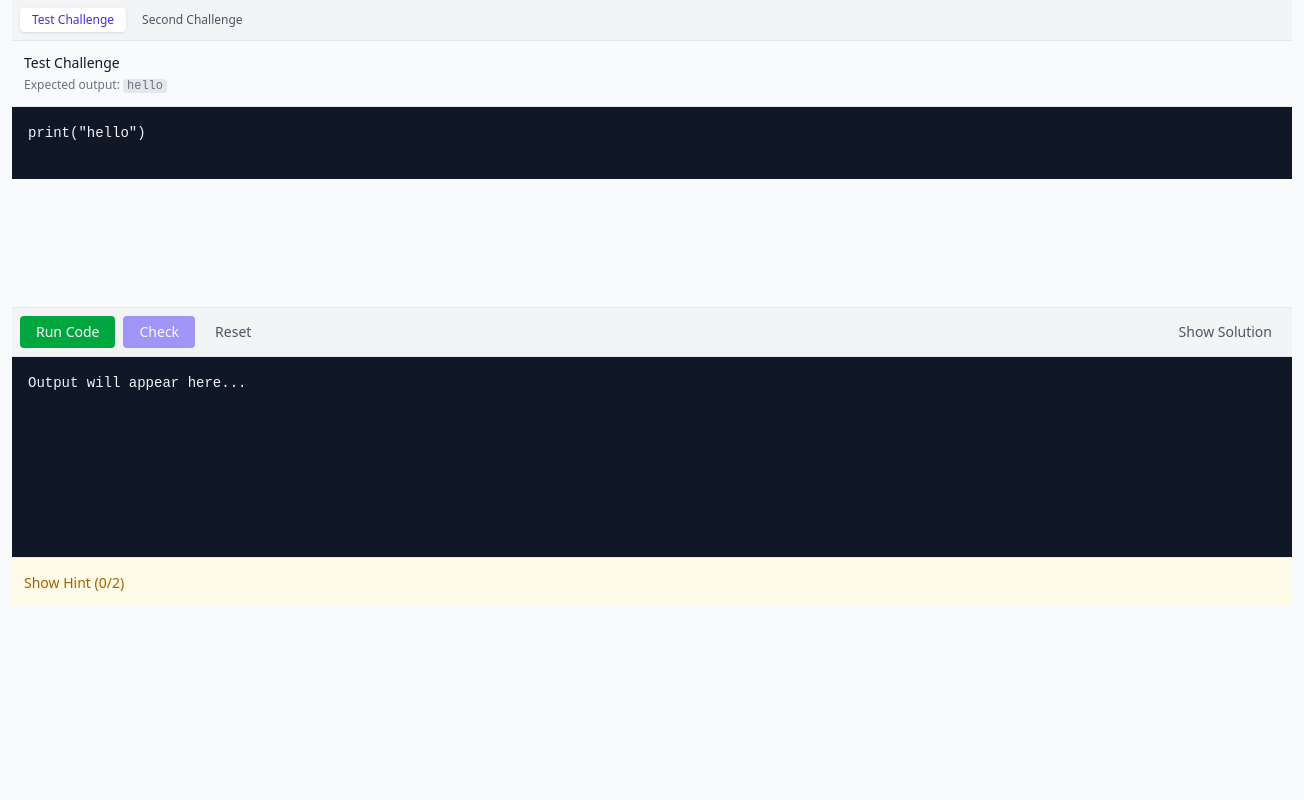
Test case: CodeSandbox › resets code to starter code
Replace the text in the text box named "Code editor" with "modified code" at (652, 143), box [12,107,1292,179]
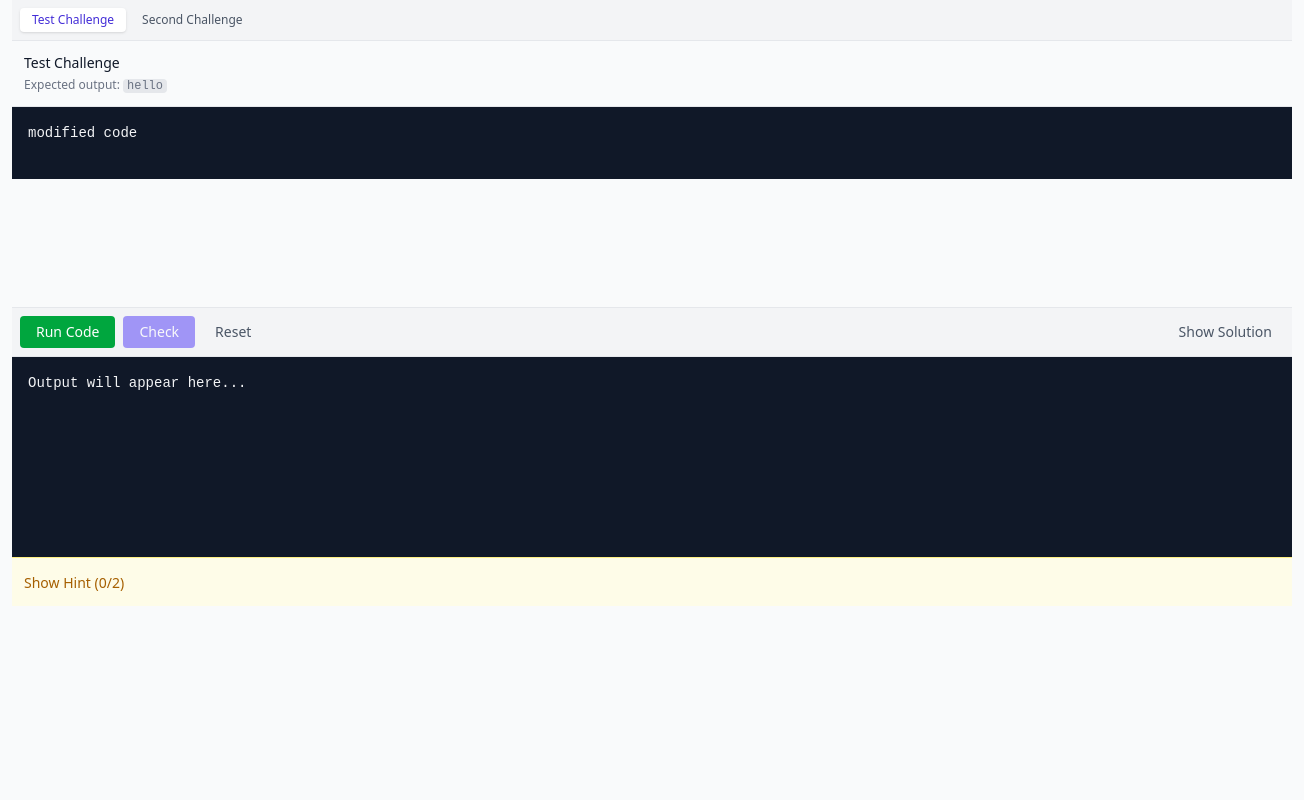
Click the button "Reset" at (233, 332), box [203,316,263,348]
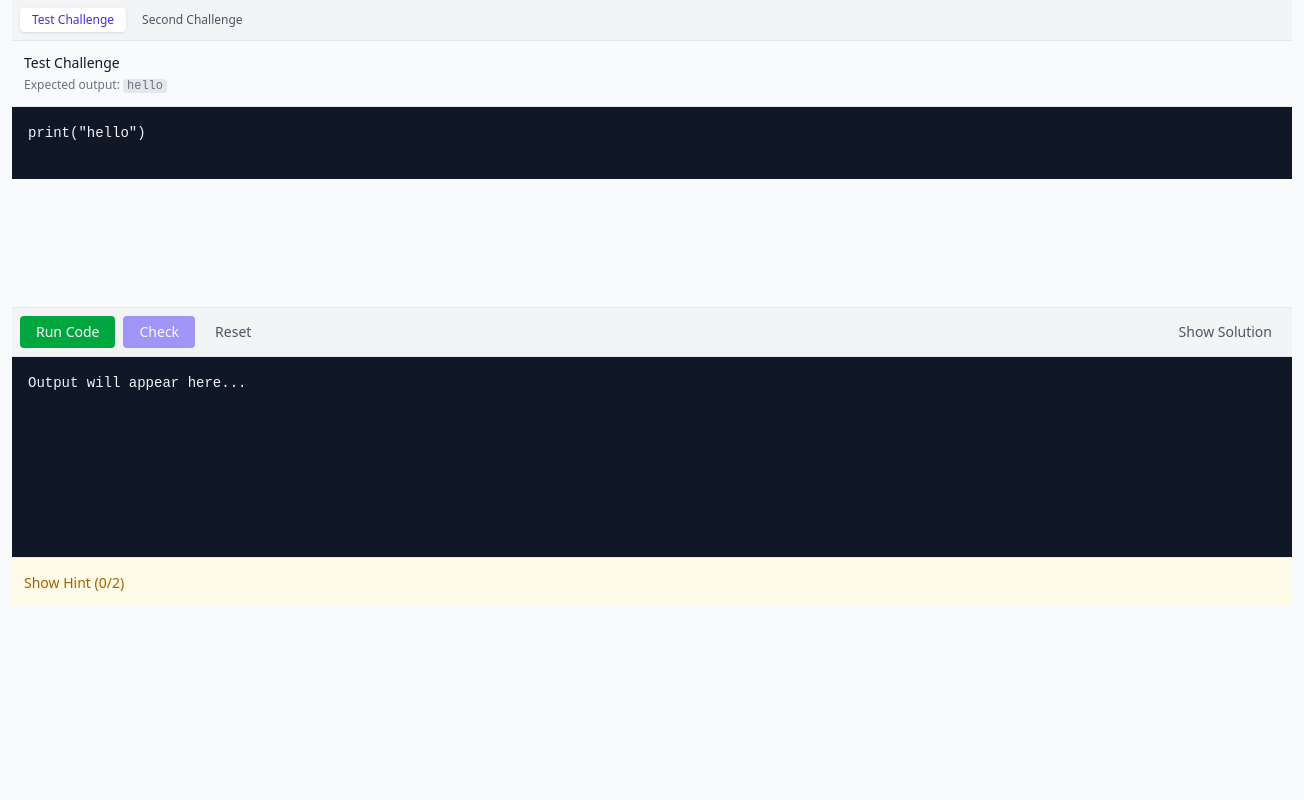
Now the text box named "Code editor" holds "print(\"hello\")", box [12,107,1292,179]
